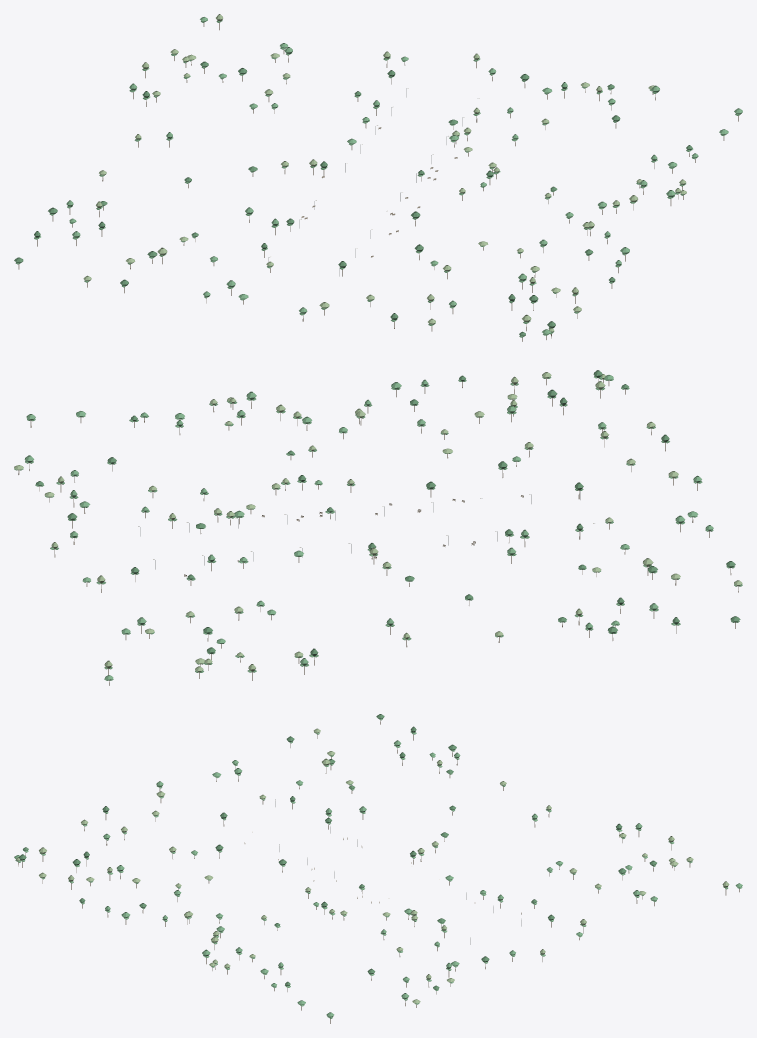
The picture shows the model from 3 angles, top to bottom: view 1: azimuth 30°, elevation 25°; view 2: azimuth 150°, elevation 25°; view 3: azimuth 270°, elevation 25°; orthographic projection. The views are drawn at different scales.
Parts seen in each view (by area): view 1: Dhaka University neighborhood furniture (approximate); view 2: Dhaka University neighborhood furniture (approximate); view 3: Dhaka University neighborhood furniture (approximate).
Part boxes in pixels (box(x1,y1,x2,y2)): Dhaka University neighborhood furniture (approximate): box(14, 14, 742, 341); Dhaka University neighborhood furniture (approximate): box(14, 370, 742, 685); Dhaka University neighborhood furniture (approximate): box(14, 714, 742, 1023).
Bounding box in the file's own units: 603 × 13.4 × 613.
